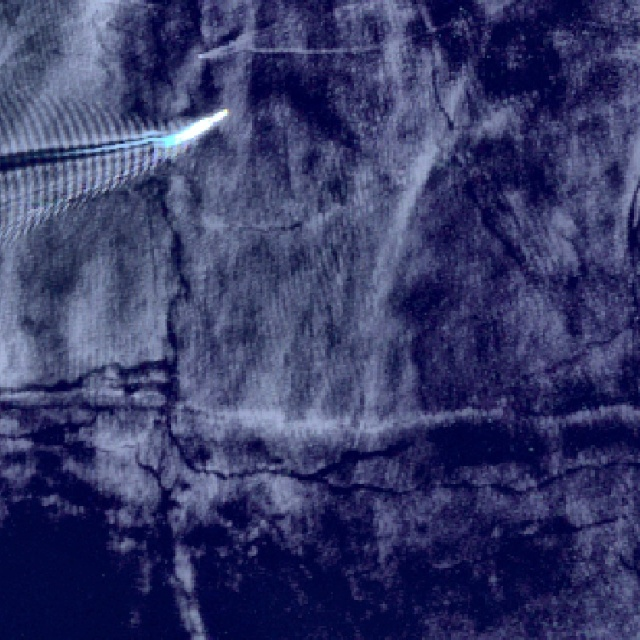wake: (58, 87, 237, 199)
